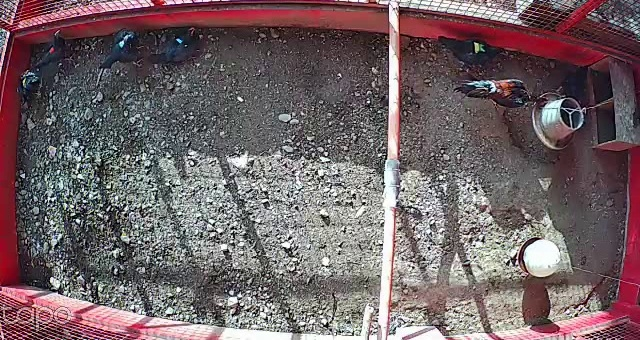Chicken: (435, 32, 513, 74), (150, 23, 212, 66), (32, 21, 85, 70), (92, 27, 153, 69), (552, 64, 599, 111), (14, 65, 52, 103)
Rooster: (455, 75, 555, 117)
Saddle_Color_Blue: (174, 36, 187, 47)
Saddle_Color_Red: (47, 46, 57, 54)
Saddle_Color_Yellow: (22, 77, 27, 85)
Saddle_Color_YellowGreen: (474, 42, 485, 53)
